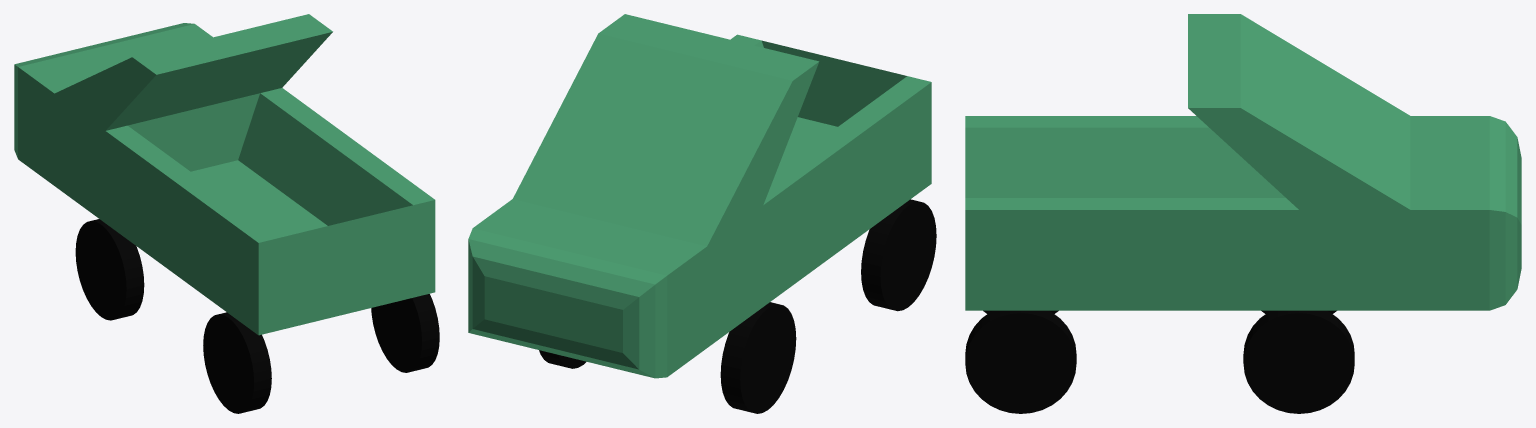
The model's file is warthog.glb.
The picture shows the model from 3 angles, left to right: view 1: azimuth 30°, elevation 25°; view 2: azimuth 150°, elevation 25°; view 3: azimuth 270°, elevation 25°; orthographic projection. The views are drawn at different scales.
Parts seen in each view (by area): view 1: Cube.001, Cylinder.002, Cylinder, Cylinder.003; view 2: Cube.001, Cylinder.002, Cylinder, Cylinder.001; view 3: Cube.001, Cylinder.001, Cylinder.003.
Part boxes in pixels (x1,y1,x2,y2): Cube.001: (14,14,435,335); Cylinder.002: (203,312,271,413); Cylinder: (75,219,144,320); Cylinder.003: (371,294,439,372); Cube.001: (468,14,931,378); Cylinder.002: (861,199,936,311); Cylinder: (720,302,796,413); Cylinder.001: (539,350,586,368); Cube.001: (965,14,1521,310); Cylinder.001: (1243,310,1354,413); Cylinder.003: (965,310,1076,413).
Bounding box in the file's own units: 2.1 × 3.01 × 5.
